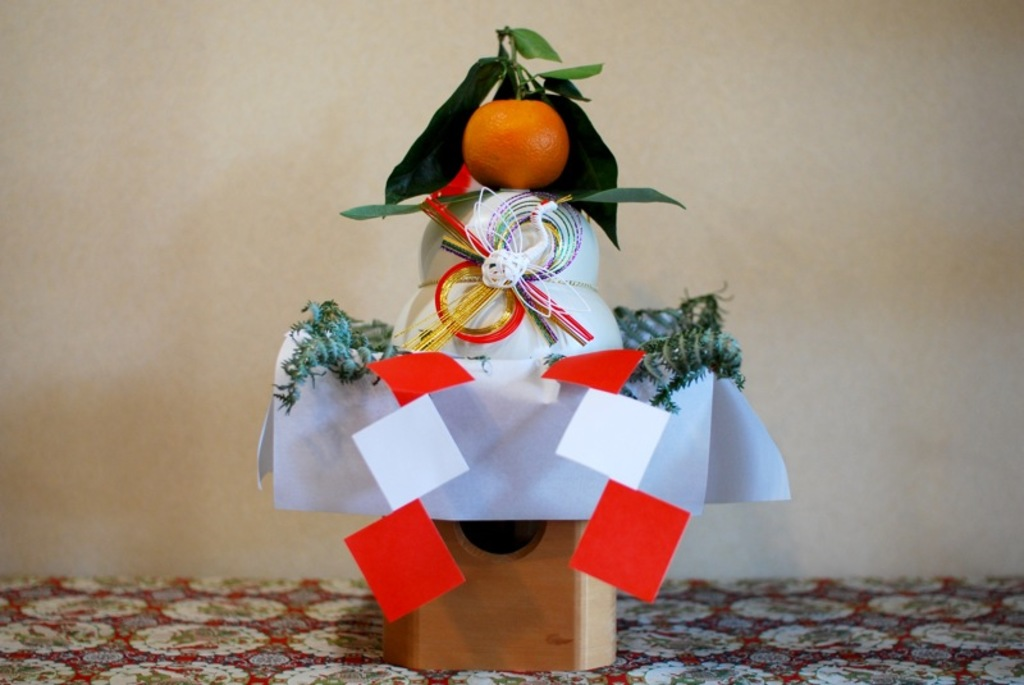Ripe: (466, 76, 575, 170)
